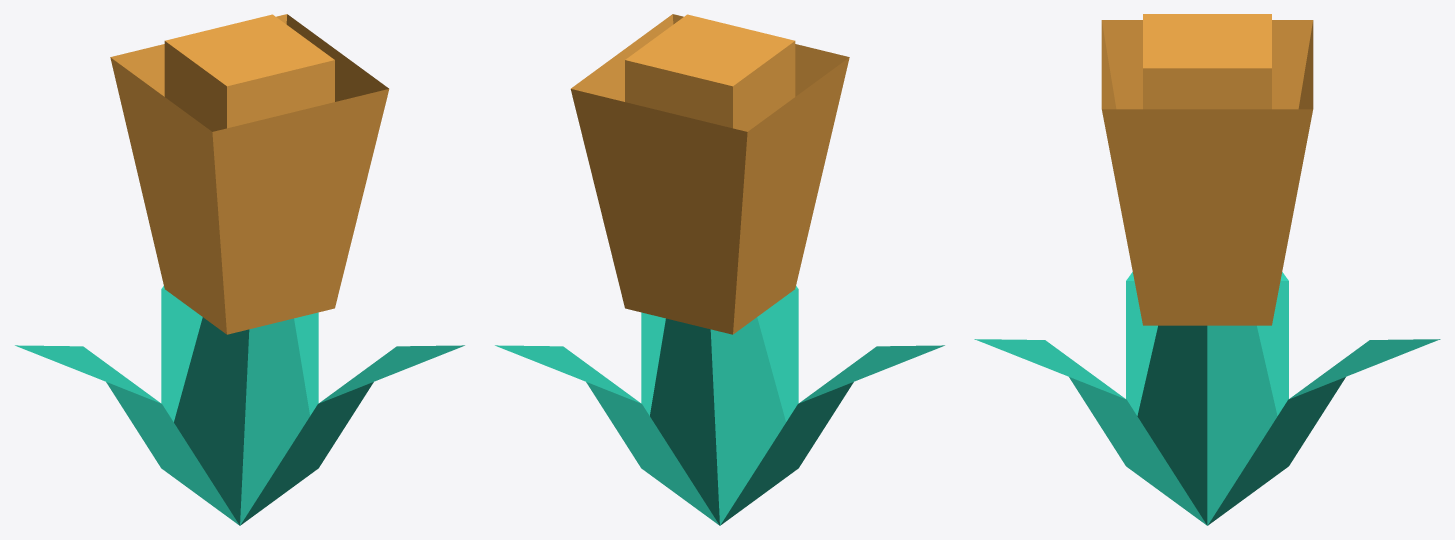
The model's file is flower_yellowA.obj.
3 views of the same model, side by side, from view 1: azimuth 30°, elevation 25°; view 2: azimuth 150°, elevation 25°; view 3: azimuth 270°, elevation 25° (orthographic). The views are drawn at different scales.
Visible parts, largest first — view 1: Mesh flower_yellowA-1, Mesh flower_yellowA-0; view 2: Mesh flower_yellowA-1, Mesh flower_yellowA-0; view 3: Mesh flower_yellowA-1, Mesh flower_yellowA-0.
Part boxes in pixels (left/top/right/bottom): Mesh flower_yellowA-1: left=110, top=14, right=389, bottom=334; Mesh flower_yellowA-0: left=15, top=286, right=464, bottom=525; Mesh flower_yellowA-1: left=570, top=14, right=849, bottom=334; Mesh flower_yellowA-0: left=495, top=286, right=944, bottom=525; Mesh flower_yellowA-1: left=1101, top=14, right=1313, bottom=325; Mesh flower_yellowA-0: left=974, top=272, right=1440, bottom=525.
Bounding box in the file's own units: 0.1591 × 0.1925 × 0.1811.
